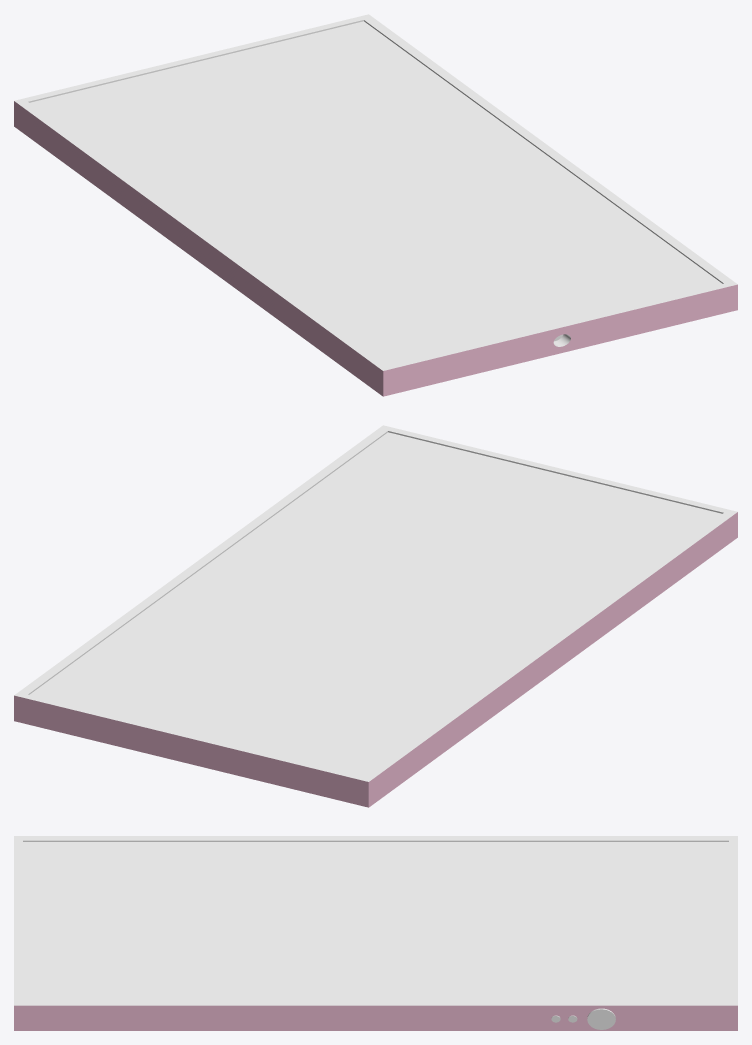
Rendered from kannykka.FBX.
3 renders of one model, top to bottom at view 1: azimuth 30°, elevation 25°; view 2: azimuth 150°, elevation 25°; view 3: azimuth 270°, elevation 25°, orthographic.
Parts seen in each view (by area): view 1: ID11, SketchUp, ID19, ID25; view 2: ID11, SketchUp, ID19, ID25; view 3: ID11, SketchUp, ID19, ID25, ID39.
Part boxes in pixels (x1,y1,x2,y2): ID11: (30, 21, 722, 365); SketchUp: (14, 101, 737, 396); ID19: (14, 14, 737, 370); ID25: (28, 20, 723, 283); ID11: (29, 432, 721, 776); SketchUp: (14, 512, 737, 807); ID19: (14, 425, 737, 781); ID25: (28, 431, 723, 694); ID11: (23, 842, 728, 1001); SketchUp: (14, 1005, 737, 1030); ID19: (14, 836, 737, 1005); ID25: (23, 840, 728, 841); ID39: (587, 1008, 615, 1029).
Size of the model in its own units: 25.21 by 2.34 by 45.22.
